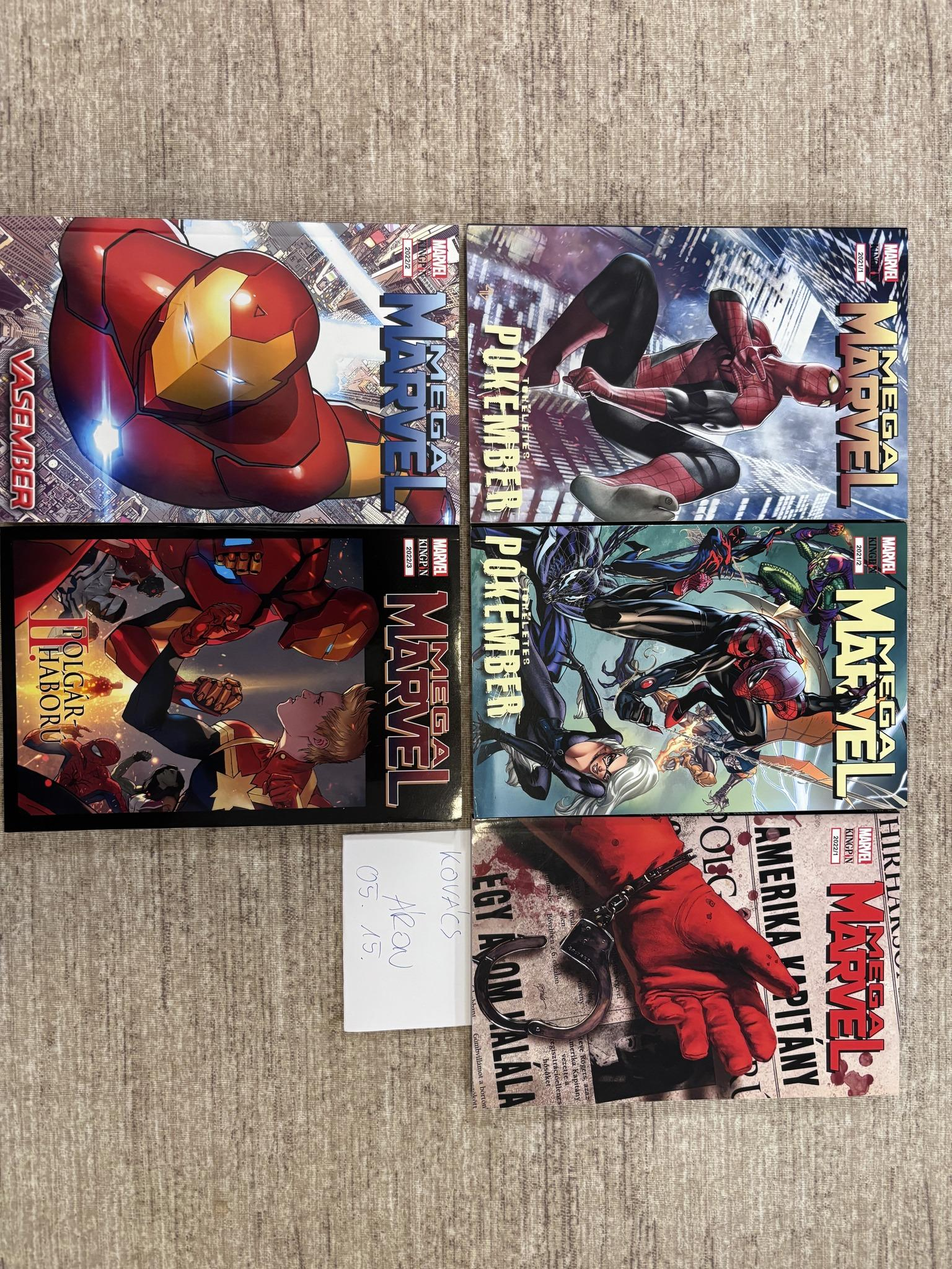comic: (0, 216, 459, 525), (2, 521, 461, 829), (470, 520, 909, 818), (467, 811, 906, 1108), (468, 226, 907, 522)
